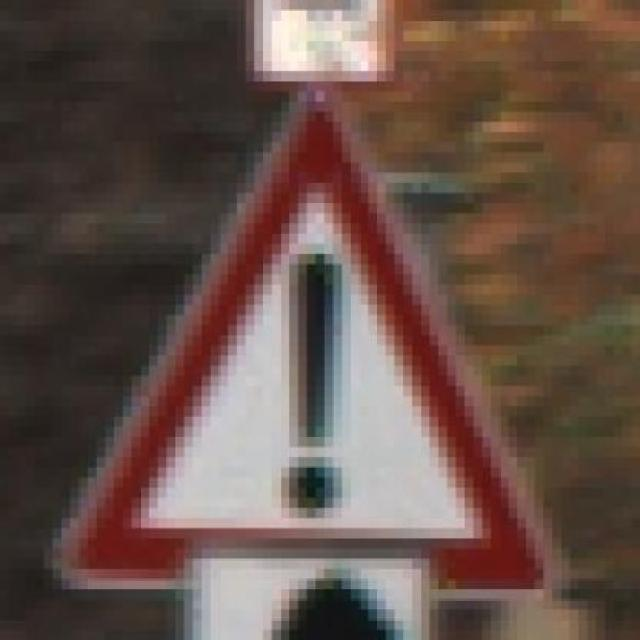Attention Please-: (33, 56, 569, 615)
